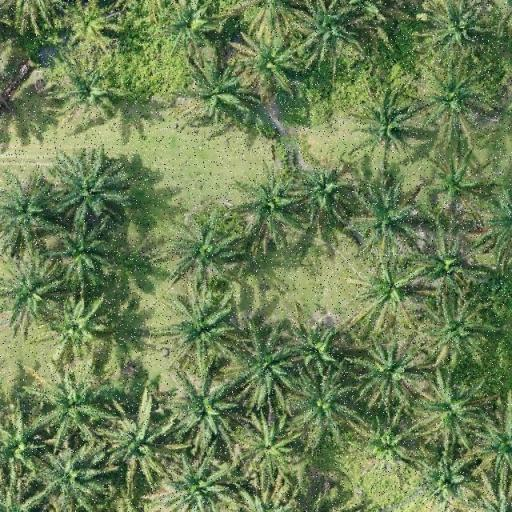Ganoderma: (366, 263, 414, 312), (362, 424, 412, 468), (244, 422, 291, 464), (431, 162, 474, 206), (66, 6, 104, 44)
